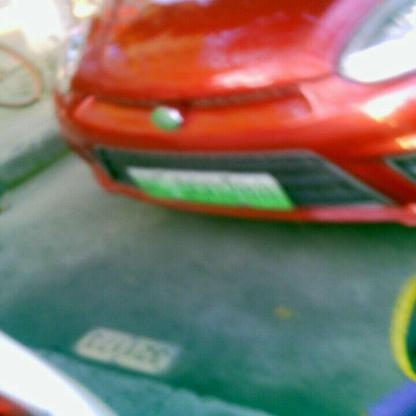lp: (125, 168, 297, 210)
